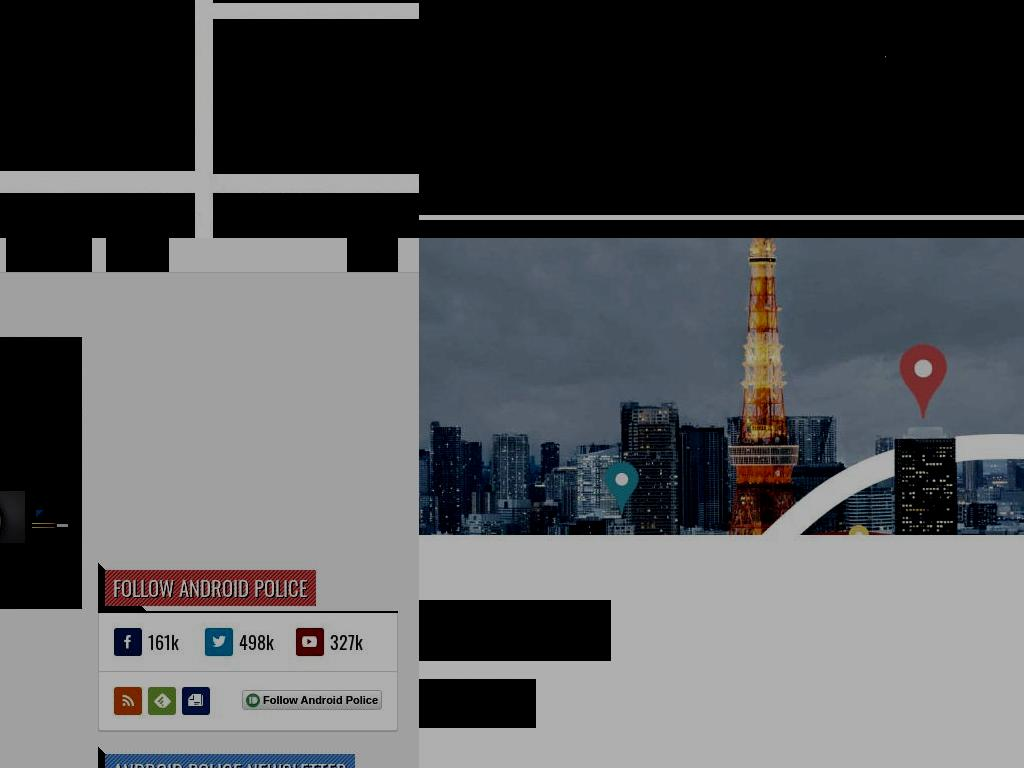button: (0, 0, 195, 171), (213, 19, 419, 174), (0, 339, 82, 474), (0, 474, 82, 609), (213, 193, 419, 238), (0, 193, 195, 238), (485, 172, 655, 204), (241, 687, 382, 710), (6, 238, 92, 272), (113, 628, 200, 658), (204, 628, 291, 658), (295, 628, 382, 658), (677, 172, 753, 204), (776, 172, 846, 204), (106, 238, 169, 272), (347, 238, 398, 272), (419, 172, 462, 204), (31, 353, 68, 375), (31, 488, 68, 510)
heading: (419, 38, 885, 157), (419, 600, 611, 661), (233, 78, 367, 159), (0, 41, 76, 171), (112, 576, 308, 600), (0, 418, 68, 464), (0, 553, 68, 599), (112, 760, 347, 768)
iframe: (97, 289, 398, 539), (241, 690, 382, 710)
image: (0, 0, 195, 171), (213, 19, 419, 174), (0, 339, 82, 491), (0, 474, 82, 626), (213, 193, 419, 238), (0, 193, 195, 238), (113, 628, 142, 656), (204, 628, 233, 656), (295, 628, 324, 656), (113, 687, 142, 715), (147, 687, 176, 715), (181, 687, 210, 715), (31, 389, 65, 392), (31, 524, 57, 527)
label: (919, 176, 1024, 205)
text: (419, 679, 536, 728), (238, 633, 274, 651), (329, 633, 363, 651), (147, 633, 179, 651)
